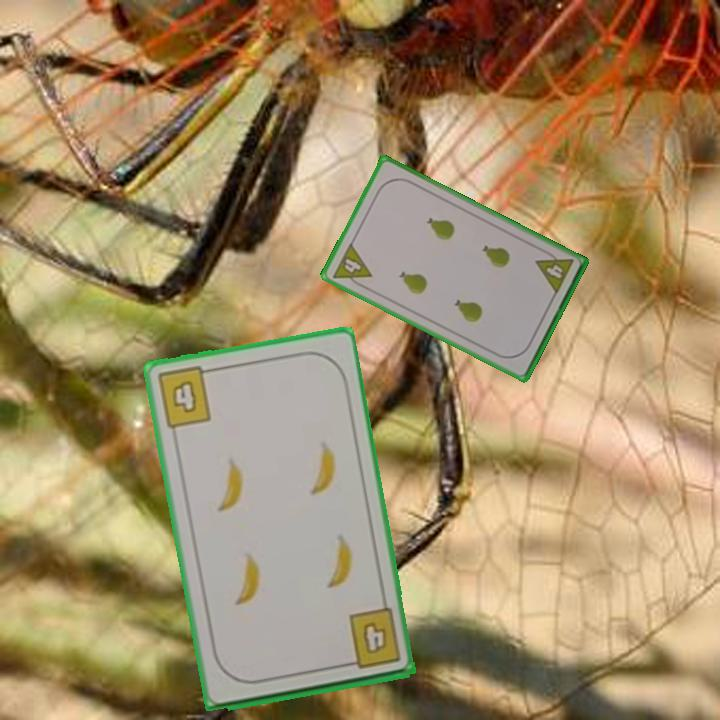4b: (339, 605, 404, 672), (153, 363, 217, 431)
4p: (329, 239, 375, 292), (532, 246, 576, 297)
